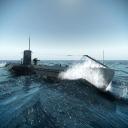submarine: (5, 33, 116, 98)
